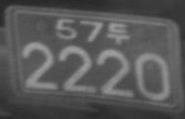0: (134, 51, 170, 101)
2: (96, 47, 133, 97), (59, 44, 96, 93), (22, 41, 58, 89)
5: (56, 18, 77, 39)
7: (79, 19, 104, 41)
두: (107, 21, 129, 45)
